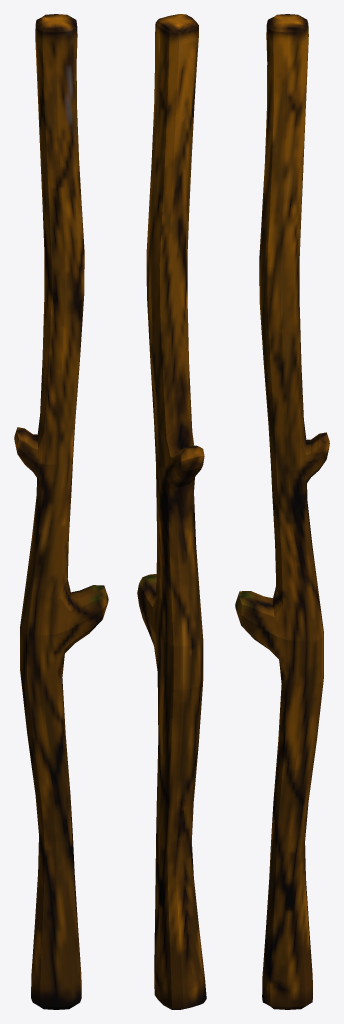
The model's file is UnityStockKleinV2.fbx.
3 renders of one model, left to right at view 1: azimuth 90°, elevation 25°; view 2: azimuth 210°, elevation 25°; view 3: azimuth 270°, elevation 25°, orthographic.
Visible parts, largest first — view 1: StockKleinSubs; view 2: StockKleinSubs; view 3: StockKleinSubs.
Boxes of the visible parts, <box> form: StockKleinSubs: <box>14,14,108,1009</box>; StockKleinSubs: <box>137,14,206,1009</box>; StockKleinSubs: <box>235,14,329,1009</box>.
Size of the model in its own units: 15.23 by 308 by 26.91.
